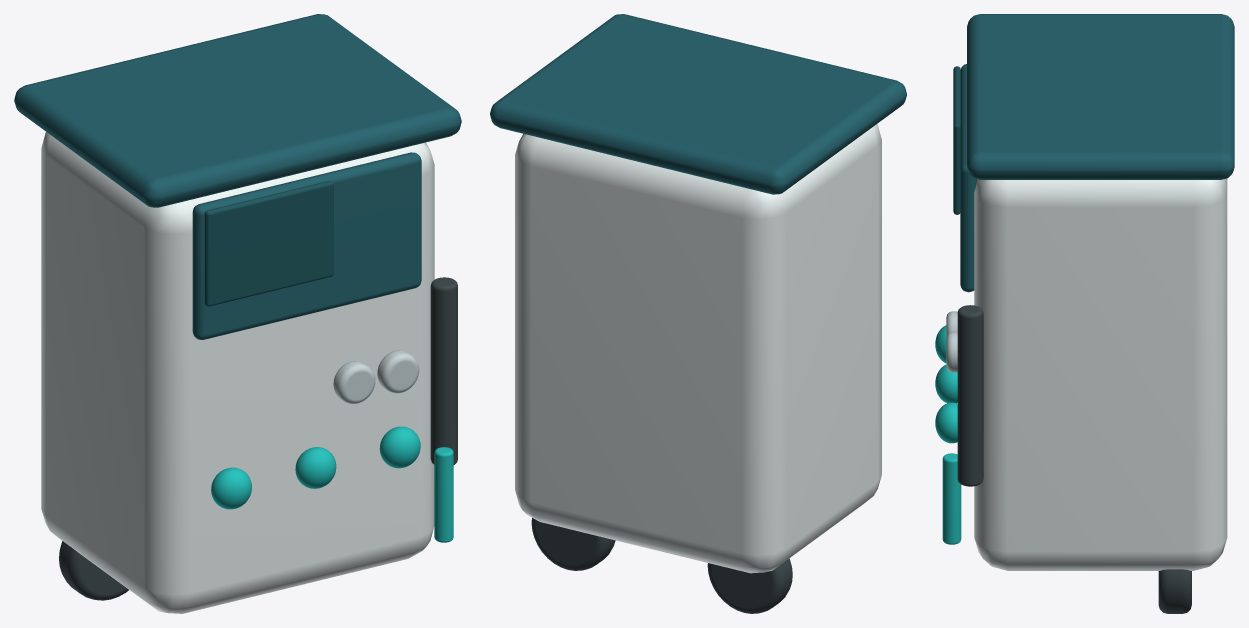
The model's file is Maquina_Anestesia.fbx.
3 views of the same model, side by side, from view 1: azimuth 30°, elevation 25°; view 2: azimuth 150°, elevation 25°; view 3: azimuth 270°, elevation 25° (orthographic). The views are drawn at different scales.
Parts seen in each view (by area): view 1: Gabinete_de_anestesia, Plataforma_superior, Panel_frontal, Pantalla_anestesia, Manguera_respiratoria, Rueda_de_carro, Manguera_paciente, Caudalimetro_Parte_02, Caudalimetro, Perilla_de_control_Parte_03, Perilla_de_control_Parte_02, Perilla_de_control; view 2: Gabinete_de_anestesia, Plataforma_superior, Rueda_de_carro, Rueda_de_carro_Parte_02; view 3: Gabinete_de_anestesia, Plataforma_superior, Manguera_respiratoria, Panel_frontal, Manguera_paciente, Rueda_de_carro_Parte_02, Pantalla_anestesia, Perilla_de_control_Parte_03, Perilla_de_control_Parte_02, Caudalimetro_Parte_02.
Boxes of the visible parts, x1,y1,x2,y2 form: Gabinete_de_anestesia: [41, 132, 434, 613]; Plataforma_superior: [14, 14, 461, 207]; Panel_frontal: [192, 152, 421, 339]; Pantalla_anestesia: [204, 180, 333, 306]; Manguera_respiratoria: [430, 277, 457, 464]; Rueda_de_carro: [59, 541, 128, 600]; Manguera_paciente: [434, 447, 453, 542]; Caudalimetro_Parte_02: [377, 350, 419, 393]; Caudalimetro: [333, 361, 375, 403]; Perilla_de_control_Parte_03: [379, 426, 420, 468]; Perilla_de_control_Parte_02: [295, 447, 336, 488]; Perilla_de_control: [211, 467, 251, 509]; Gabinete_de_anestesia: [515, 124, 881, 573]; Plataforma_superior: [490, 14, 906, 194]; Rueda_de_carro: [707, 558, 792, 613]; Rueda_de_carro_Parte_02: [531, 518, 615, 570]; Gabinete_de_anestesia: [974, 178, 1227, 570]; Plataforma_superior: [967, 14, 1234, 179]; Manguera_respiratoria: [957, 305, 983, 486]; Panel_frontal: [960, 64, 976, 292]; Manguera_paciente: [942, 453, 961, 544]; Rueda_de_carro_Parte_02: [1158, 569, 1191, 613]; Pantalla_anestesia: [953, 66, 960, 214]; Perilla_de_control_Parte_03: [935, 402, 957, 443]; Perilla_de_control_Parte_02: [935, 365, 957, 403]; Caudalimetro_Parte_02: [946, 331, 957, 372].
Size of the model in its own units: 0.94 by 1.43 by 0.805.
